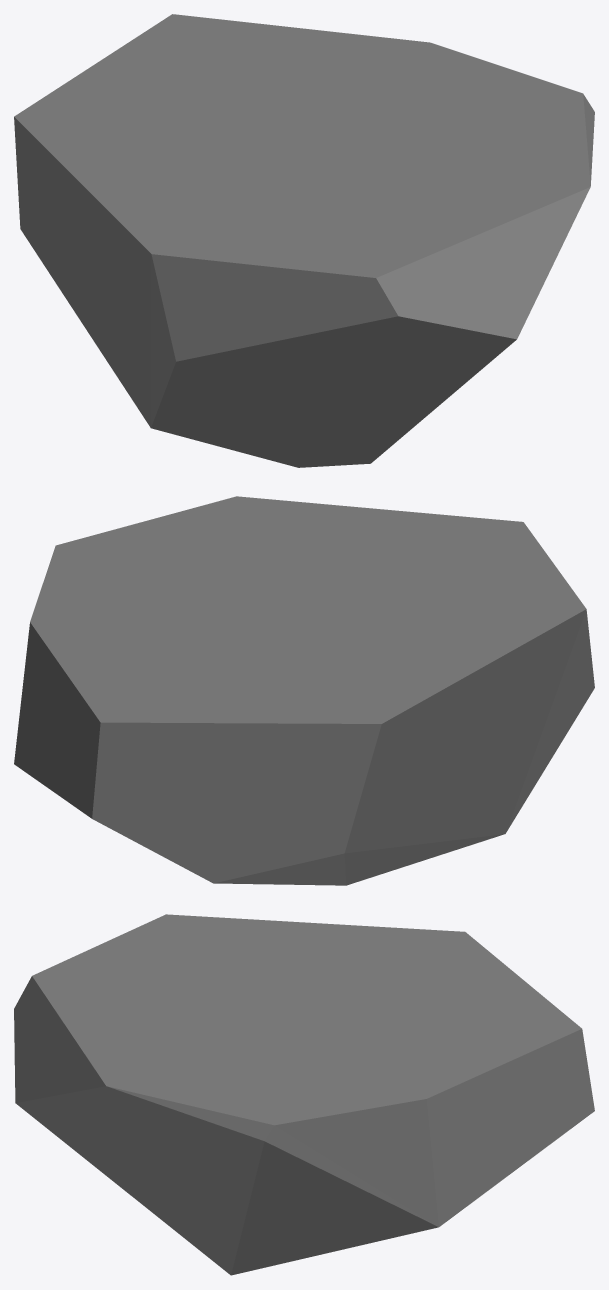
Rendered from Stone_02_Cut.fbx.
3 renders of one model, top to bottom at view 1: azimuth 30°, elevation 25°; view 2: azimuth 150°, elevation 25°; view 3: azimuth 270°, elevation 25°, orthographic. The views are drawn at different scales.
Parts seen in each view (by area): view 1: Stone_02_Cut; view 2: Stone_02_Cut; view 3: Stone_02_Cut.
Boxes of the visible parts, bbox=[...] form: Stone_02_Cut: bbox=[14, 14, 594, 467]; Stone_02_Cut: bbox=[14, 496, 594, 885]; Stone_02_Cut: bbox=[14, 914, 594, 1275].
Size of the model in its own units: 265 by 152 by 314.
